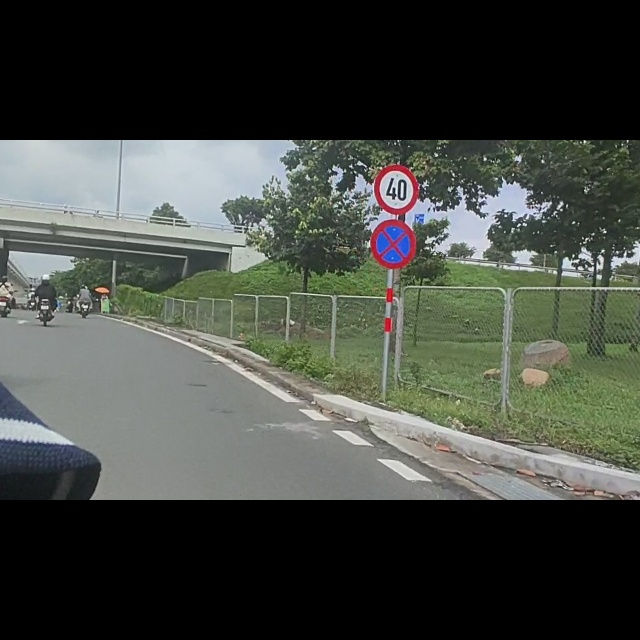bien_cam: (371, 141, 417, 229), (375, 44, 419, 134)
